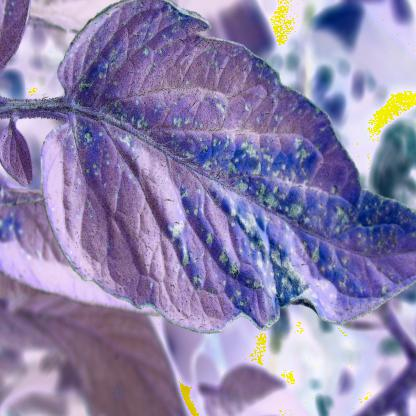tomato leaf bacterial spot: (38, 8, 415, 324)
